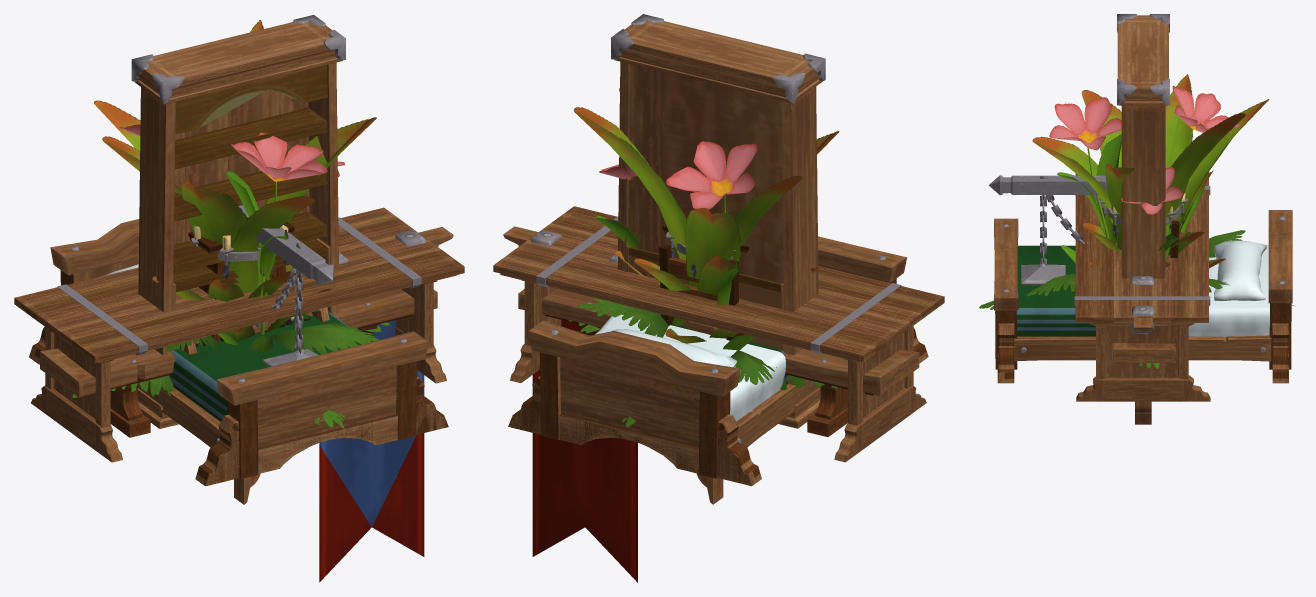
File: interior.glb
3 views of the same model, side by side, from view 1: azimuth 30°, elevation 25°; view 2: azimuth 150°, elevation 25°; view 3: azimuth 270°, elevation 25° (orthographic). The views are drawn at different scales.
Visible parts, largest first — view 1: Bookcase_2, Table_Large, Bed_Twin1, Bed_Twin2, Plant_1_Big, Banner_1, Bench, Banner_2, Flower_3_Group, Lantern_Wall, Fern_1, Cabinet (+2 smaller); view 2: Bookcase_2, Table_Large, Bed_Twin1, Bed_Twin2, Banner_1, Plant_1_Big, Bench, Flower_3_Group, Fern_1, Cabinet, Chair_1, Banner_2; view 3: Table_Large, Bed_Twin2, Bookcase_2, Bed_Twin1, Plant_1_Big, Flower_3_Group, Lantern_Wall, Bench, Fern_1, Banner_2, Banner_1, CandleStick_Stand.
Part boxes in pixels (x1,y1,x2,y2): Bookcase_2: (131,15,345,428); Table_Large: (14,207,464,462); Bed_Twin1: (29,219,446,486); Bed_Twin2: (33,243,448,485); Plant_1_Big: (94,20,376,341); Banner_1: (234,230,425,582); Bench: (40,289,437,437); Banner_2: (319,227,453,526); Flower_3_Group: (119,124,344,352); Lantern_Wall: (238,205,333,366); Fern_1: (72,309,390,428); Cabinet: (172,238,331,351); Bookcase_2: (611,14,825,428); Table_Large: (493,206,944,462); Bed_Twin1: (508,236,928,485); Bed_Twin2: (508,258,926,485); Banner_1: (531,230,723,582); Plant_1_Big: (574,88,839,343); Bench: (518,288,919,436); Flower_3_Group: (593,141,757,350); Fern_1: (568,302,897,426); Cabinet: (626,246,784,351); Chair_1: (659,243,739,340); Banner_2: (503,226,712,504); Table_Large: (1074,172,1210,401); Bed_Twin2: (994,210,1292,378); Bookcase_2: (1117,14,1169,278); Bed_Twin1: (994,216,1292,383); Plant_1_Big: (1032,74,1268,268); Flower_3_Group: (1049,85,1240,263); Lantern_Wall: (988,175,1108,285); Bench: (1112,343,1175,362); Fern_1: (979,230,1293,368); Banner_2: (1131,276,1154,413); Banner_1: (1131,276,1153,424); CandleStick_Stand: (1100,193,1188,237).
Size of the model in its own units: 3.04 by 4.08 by 2.65.
6 materials, 6 textured.
